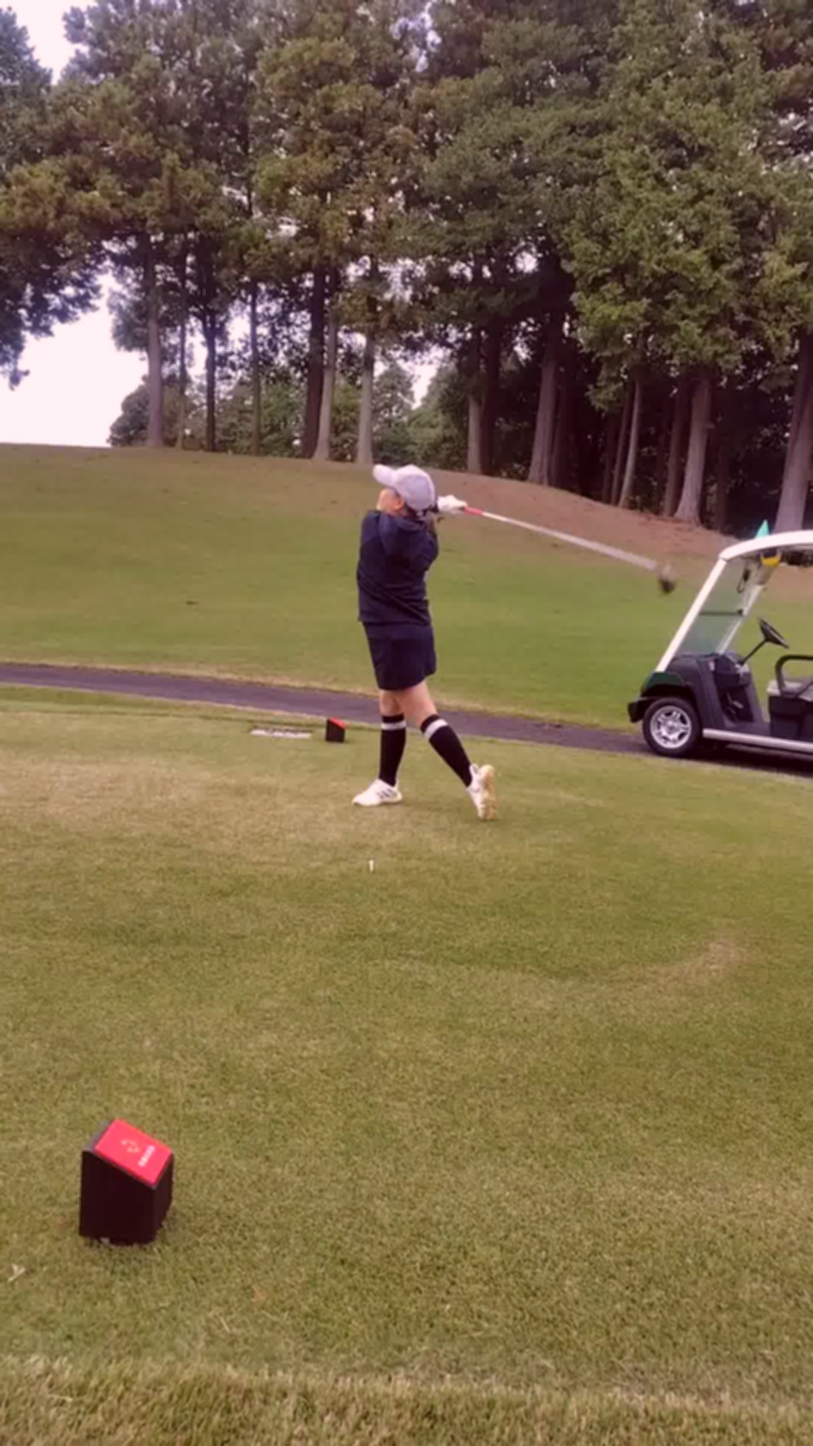clubhead: (577, 512, 727, 679)
